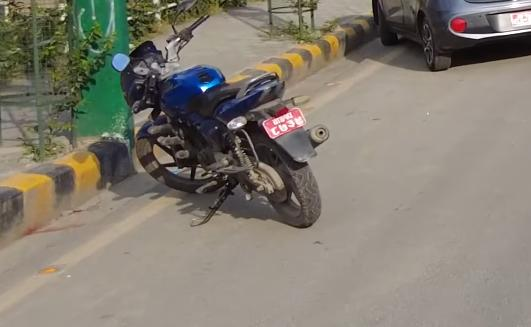bike: (106, 0, 329, 234)
